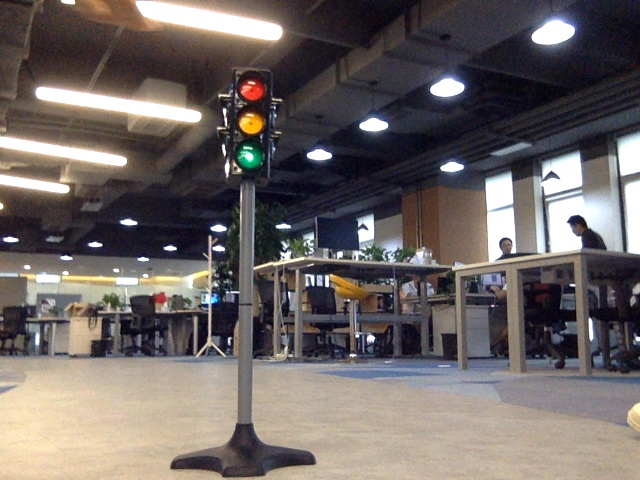green: (234, 77, 268, 171)
